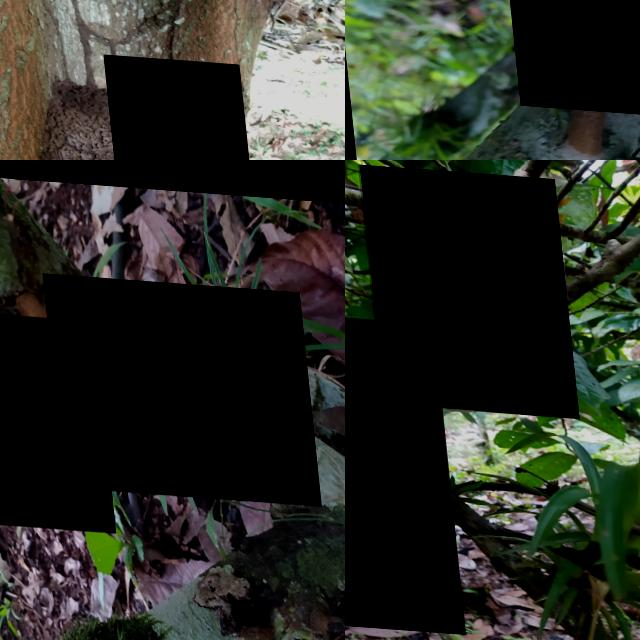Fitoftora: (345, 301, 453, 628), (99, 50, 253, 160)
Monilia: (41, 268, 315, 497), (356, 160, 571, 411), (482, 0, 640, 121)
Sana: (0, 295, 108, 527)
